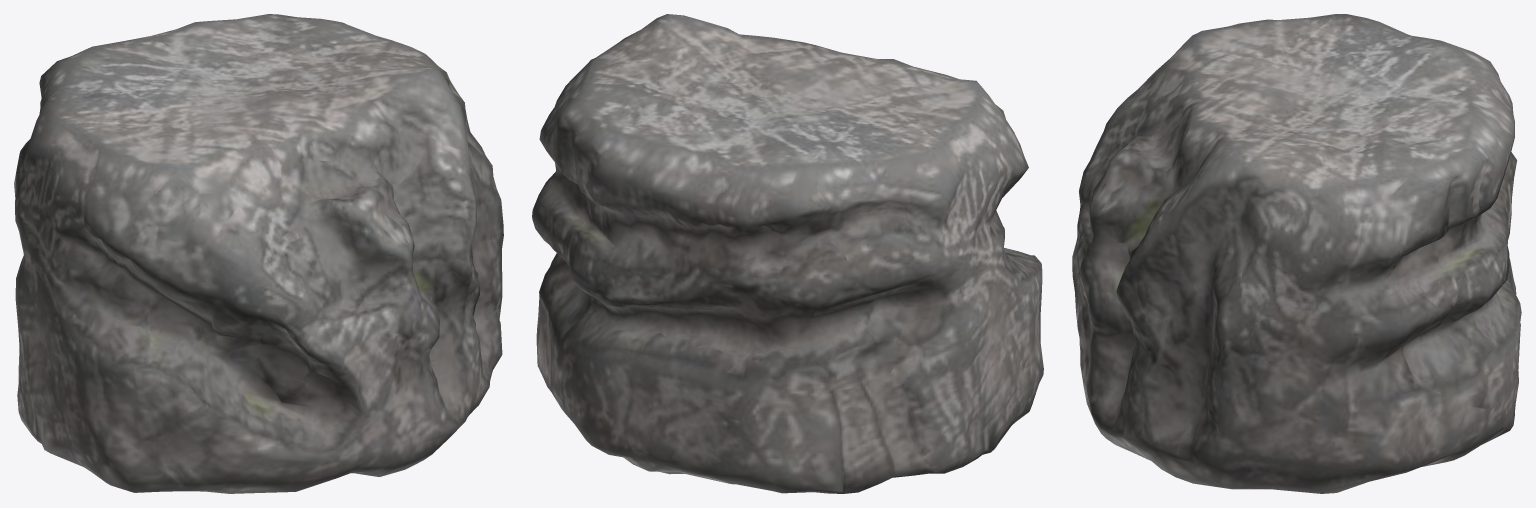
Rendered from SM_rock_02.glb.
The picture shows the model from 3 angles, left to right: view 1: azimuth 30°, elevation 25°; view 2: azimuth 150°, elevation 25°; view 3: azimuth 270°, elevation 25°; orthographic projection. The views are drawn at different scales.
Visible parts, largest first — view 1: SM_rock_02; view 2: SM_rock_02; view 3: SM_rock_02.
Part boxes in pixels (x1,y1,x2,y2): SM_rock_02: (14,14,503,493); SM_rock_02: (532,14,1043,493); SM_rock_02: (1072,14,1521,493).
Bounding box in the file's own units: 2.08 × 1.55 × 1.93.
Materials: 1 (1 with a texture image).
